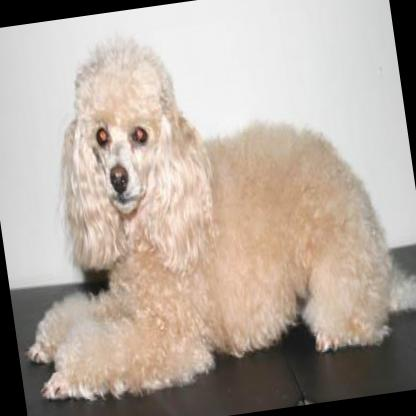miniature_poodle: (0, 0, 416, 411)
